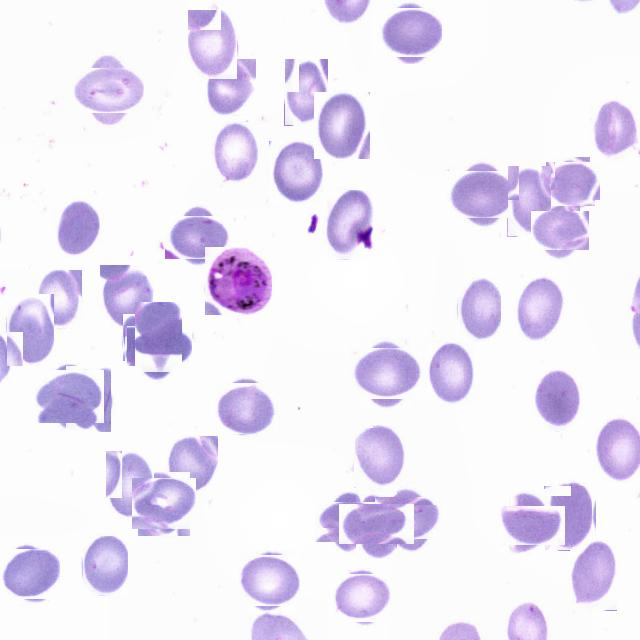difficult: (204, 247, 272, 315)
red blood cell: (354, 342, 416, 404), (38, 366, 100, 428), (314, 92, 370, 159), (452, 165, 512, 225), (79, 60, 138, 120), (100, 265, 155, 329), (6, 294, 54, 367), (188, 10, 238, 80), (324, 190, 374, 260), (129, 308, 188, 367), (269, 141, 323, 205), (105, 450, 154, 520), (544, 486, 596, 551), (135, 475, 193, 533), (348, 496, 406, 554), (570, 540, 617, 611), (218, 379, 276, 436), (354, 425, 406, 488), (518, 276, 566, 342), (2, 546, 58, 602), (382, 4, 438, 60), (242, 552, 298, 608), (501, 498, 557, 554), (507, 166, 551, 237), (532, 370, 582, 432), (65, 366, 111, 433), (382, 491, 438, 546), (590, 100, 638, 162), (426, 343, 474, 405), (322, 495, 377, 549), (167, 436, 218, 494), (284, 59, 328, 126), (171, 210, 225, 264), (131, 319, 185, 373), (205, 59, 256, 115), (458, 278, 502, 342), (212, 122, 258, 183), (82, 536, 128, 596), (336, 572, 388, 624), (56, 197, 100, 258), (38, 270, 82, 328), (548, 159, 598, 209), (536, 207, 584, 256)
